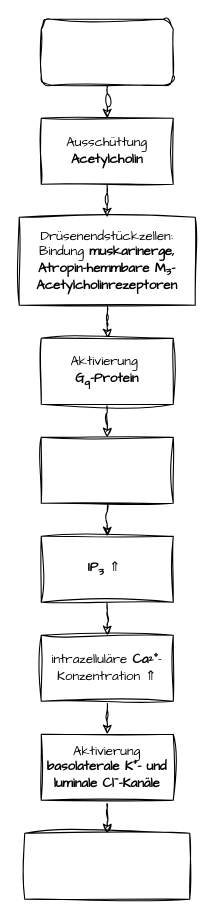
Some shapes in this 215 by 919 pixel diagram are drawn without their labels. The centre of each missing label's shape, as x and y in pixels:
"Aktivierung Phospholipase C" goes at (106,469).
"Hyperpolarisierung & Erhöhung Triebkraft Cl⁻ Sekretion" goes at (107,865).
"Parasympathikus Aktivierung" goes at (106,51).
